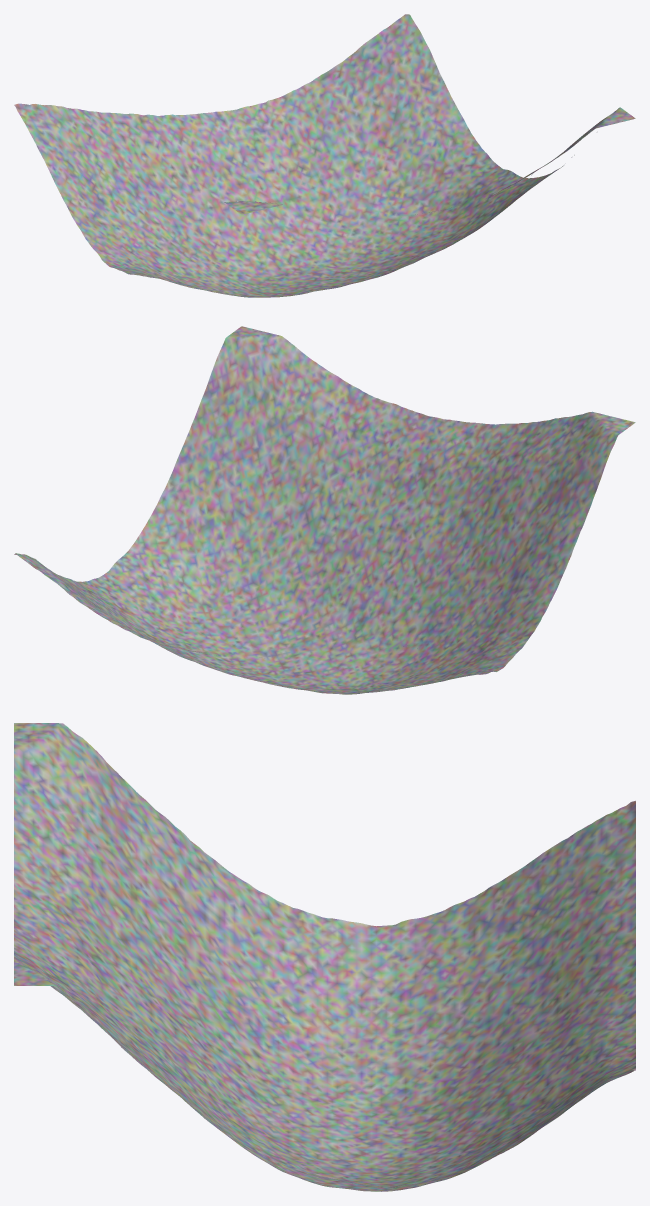
The model's file is dsm_3de1237a85_mesh.glb.
3 views of the same model, one above another, from view 1: azimuth 30°, elevation 25°; view 2: azimuth 150°, elevation 25°; view 3: azimuth 270°, elevation 25° (orthographic). The views are drawn at different scales.
Parts seen in each view (by area): view 1: geometry_0; view 2: geometry_0; view 3: geometry_0.
Boxes of the visible parts, bbox=[...] form: geometry_0: bbox=[14, 14, 635, 297]; geometry_0: bbox=[14, 326, 635, 694]; geometry_0: bbox=[14, 723, 635, 1191].
Size of the model in its own units: 2 by 1 by 2.
